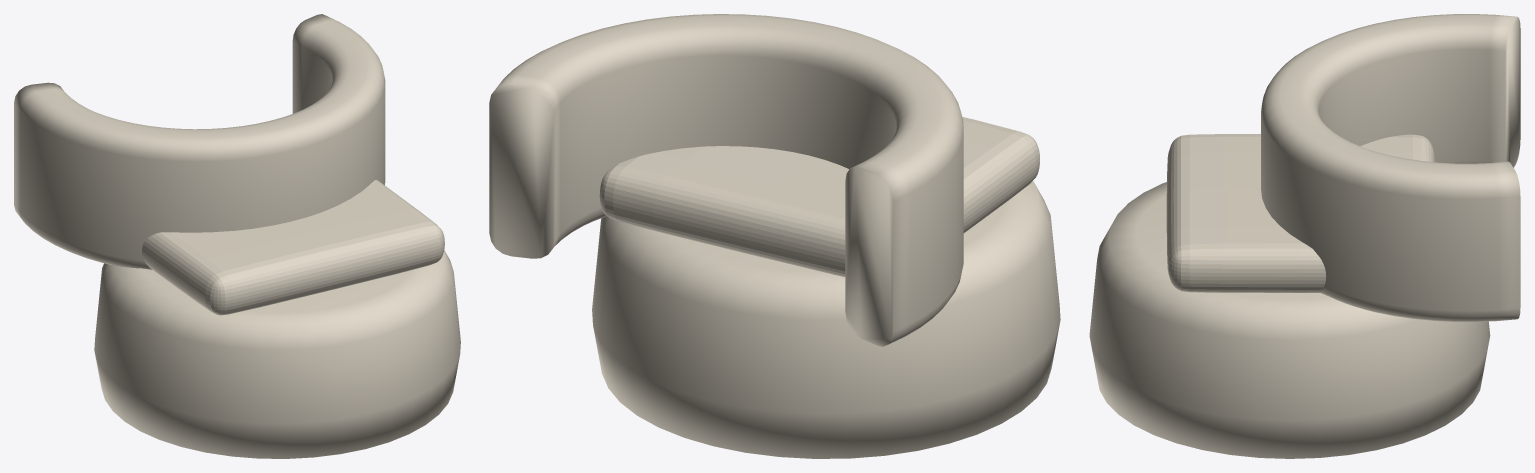
The model's file is lounge-chair.glb.
The picture shows the model from 3 angles, left to right: view 1: azimuth 30°, elevation 25°; view 2: azimuth 150°, elevation 25°; view 3: azimuth 270°, elevation 25°; orthographic projection. The views are drawn at different scales.
Visible parts, largest first — view 1: chair_shell, chair_back, chair_cushion; view 2: chair_back, chair_shell, chair_cushion; view 3: chair_back, chair_shell, chair_cushion.
Boxes of the visible parts, box(x1,y1,x2,y2) form: chair_shell: box(94, 250, 460, 458); chair_back: box(14, 14, 385, 269); chair_cushion: box(142, 180, 444, 315); chair_back: box(489, 14, 963, 346); chair_shell: box(592, 181, 1060, 458); chair_cushion: box(599, 117, 1039, 276); chair_back: box(1261, 14, 1520, 321); chair_shell: box(1089, 182, 1490, 458); chair_cushion: box(1166, 134, 1435, 292).
Size of the model in its own units: 1.07 by 0.81 by 1.12.
